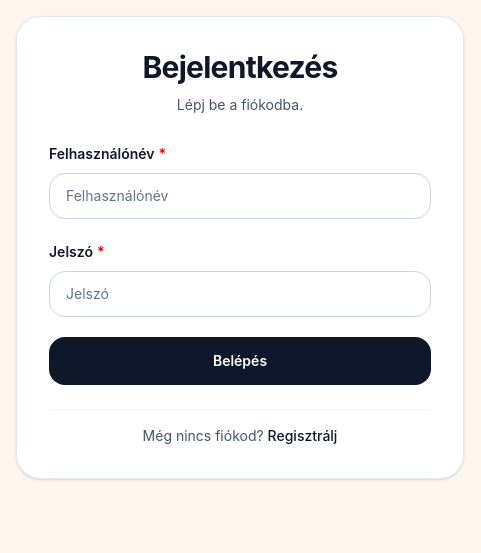
LoginPage › shows validation errors when the required fields are empty
Click the button "Belépés": (240, 361) x1=49 y1=337 x2=431 y2=385
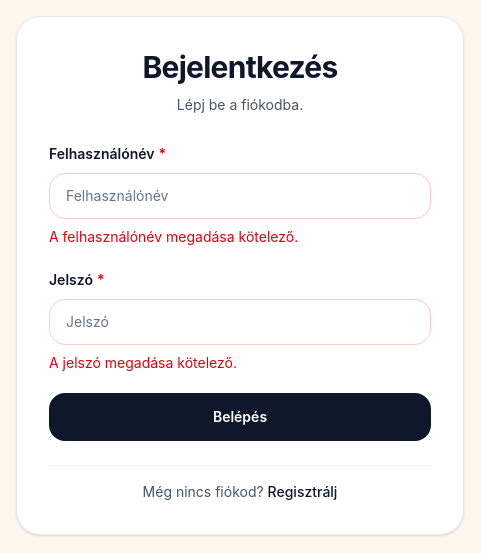
Result: the text "A felhasználónév megadása kötelező." is shown at x1=49 y1=228 x2=298 y2=245
Result: the text "A jelszó megadása kötelező." is shown at x1=49 y1=354 x2=237 y2=371
